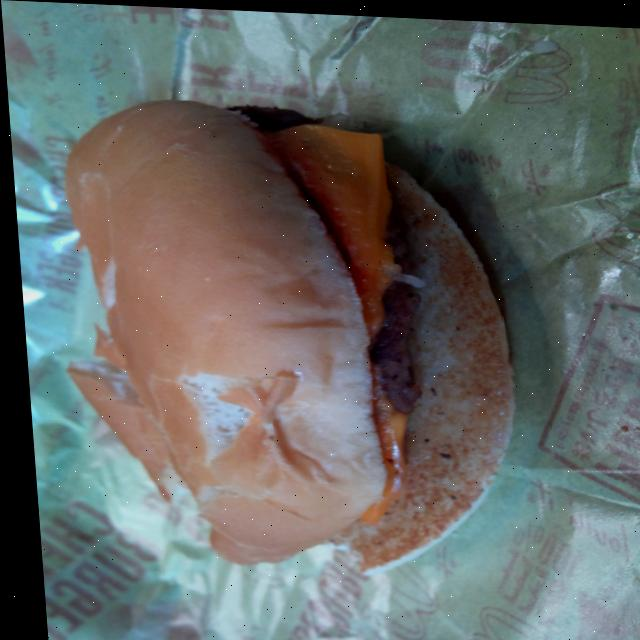汉堡快餐: (16, 71, 528, 592)
